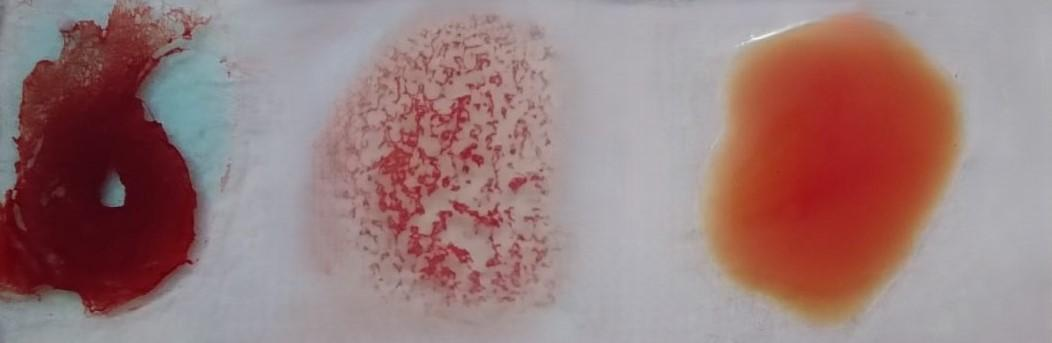A: (7, 2, 225, 321)
D: (330, 7, 565, 326)
